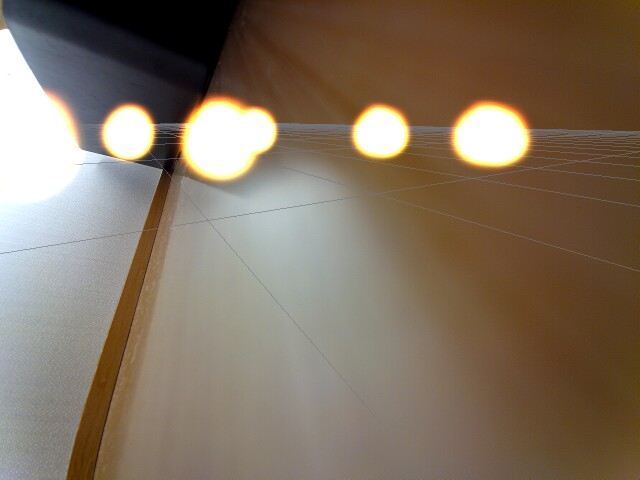firebig: (0, 68, 83, 210)
